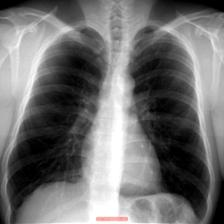tuberculosis: (0, 17, 216, 224)
